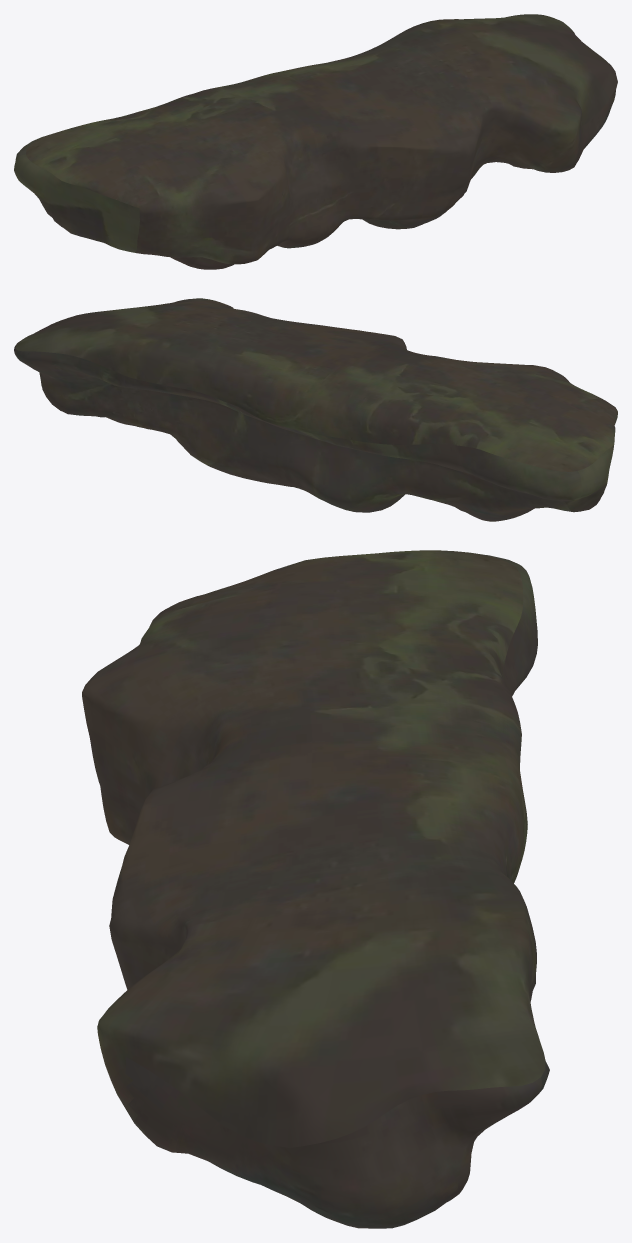
3 views of the same model, one above another, from view 1: azimuth 30°, elevation 25°; view 2: azimuth 150°, elevation 25°; view 3: azimuth 270°, elevation 25° (orthographic). The views are drawn at different scales.
Parts seen in each view (by area): view 1: SM_RiverBank_02_LOD0; view 2: SM_RiverBank_02_LOD0; view 3: SM_RiverBank_02_LOD0.
Part boxes in pixels (x1,y1,x2,y2): SM_RiverBank_02_LOD0: (14, 14, 617, 269); SM_RiverBank_02_LOD0: (14, 298, 617, 521); SM_RiverBank_02_LOD0: (82, 550, 549, 1228).
Size of the model in its own units: 20.3 by 4.92 by 7.31.
1 material, 1 textured.
